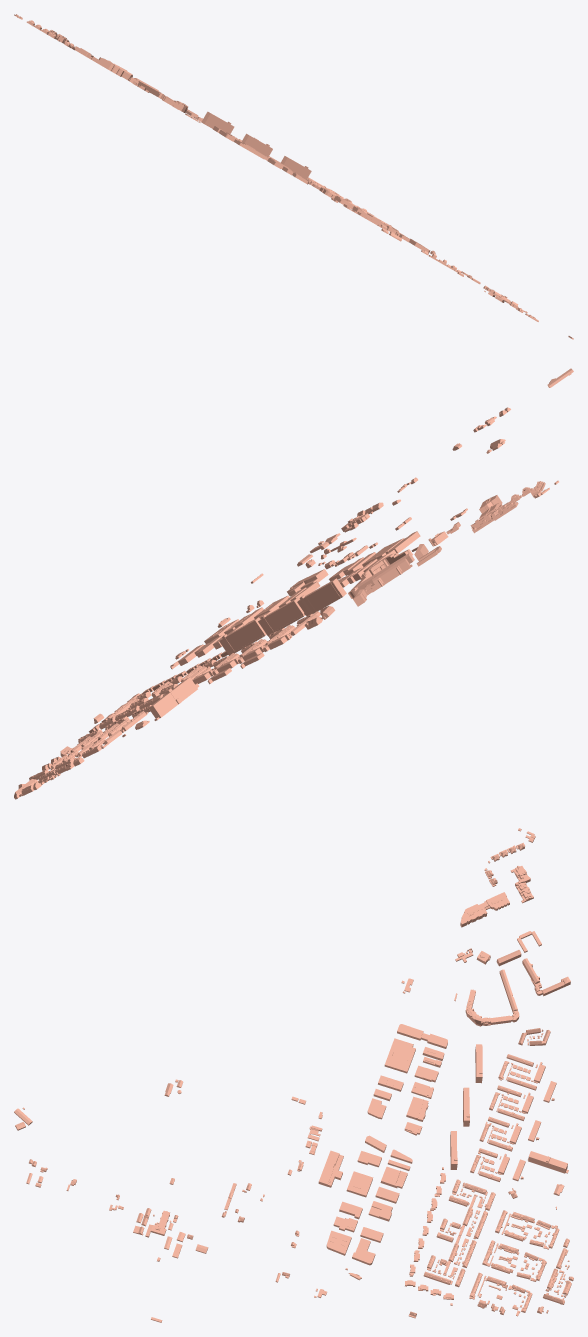
3 renders of one model, top to bottom at view 1: azimuth 30°, elevation 25°; view 2: azimuth 150°, elevation 25°; view 3: azimuth 270°, elevation 25°, orthographic. The views are drawn at different scales.
Bounding box in the file's own units: 1010 × 740 × 1230.
